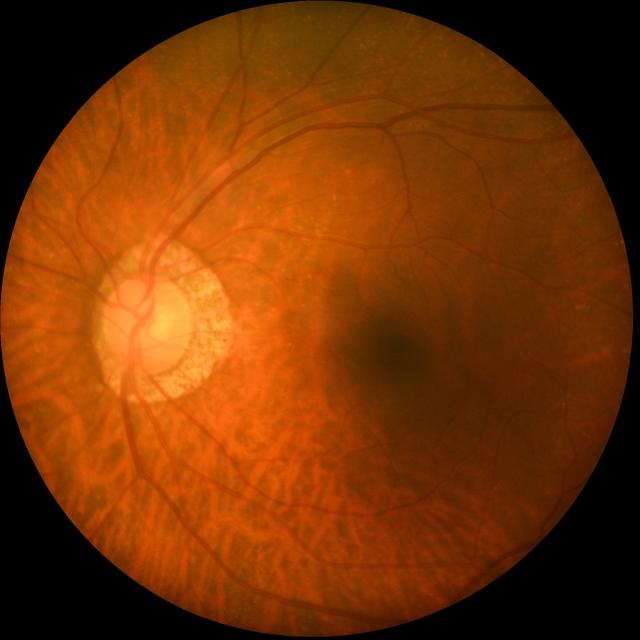OC: (129, 301, 170, 347)
OD: (98, 272, 192, 375)
